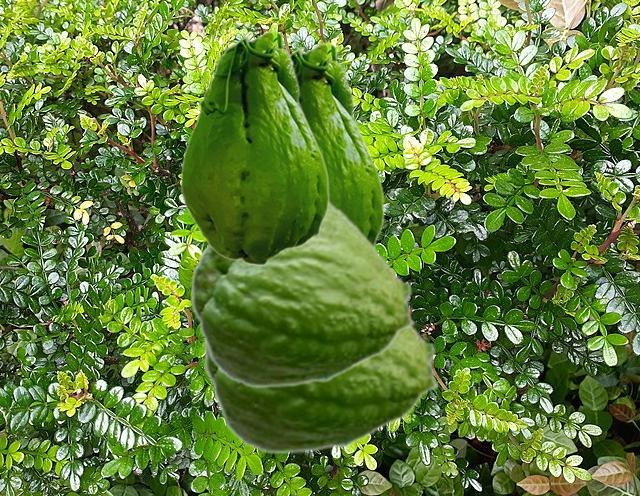sayote: (190, 198, 416, 388), (180, 29, 329, 265), (203, 325, 440, 454), (290, 41, 384, 246)
